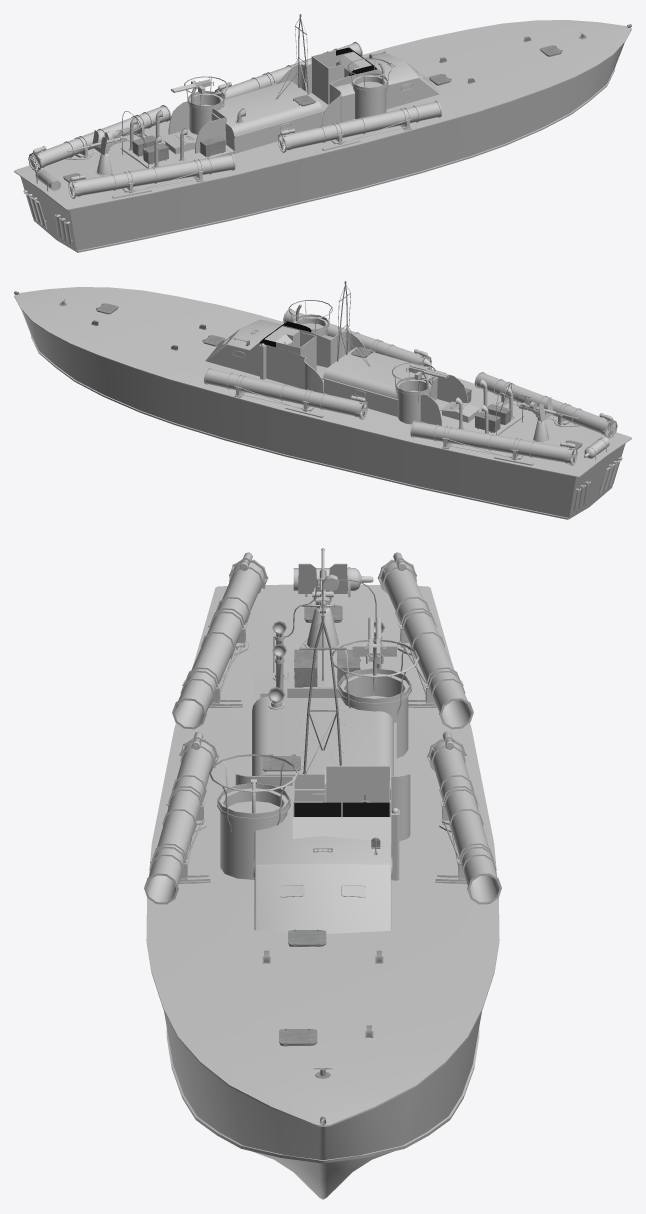
File: Elco 80ft PT.fbx
The picture shows the model from 3 angles, top to bottom: view 1: azimuth 30°, elevation 25°; view 2: azimuth 150°, elevation 25°; view 3: azimuth 270°, elevation 25°; orthographic projection. The views are drawn at different scales.
Visible parts, largest first — view 1: Elco_80ft_PT1; view 2: Elco_80ft_PT1; view 3: Elco_80ft_PT1.
Part boxes in pixels (x1=…): Elco_80ft_PT1: x1=14, y1=14, x2=631, y2=252; Elco_80ft_PT1: x1=14, y1=281, x2=631, y2=519; Elco_80ft_PT1: x1=144, y1=548, x2=501, y2=1199.
Bounding box in the file's own units: 24.01 × 6.68 × 6.3.
